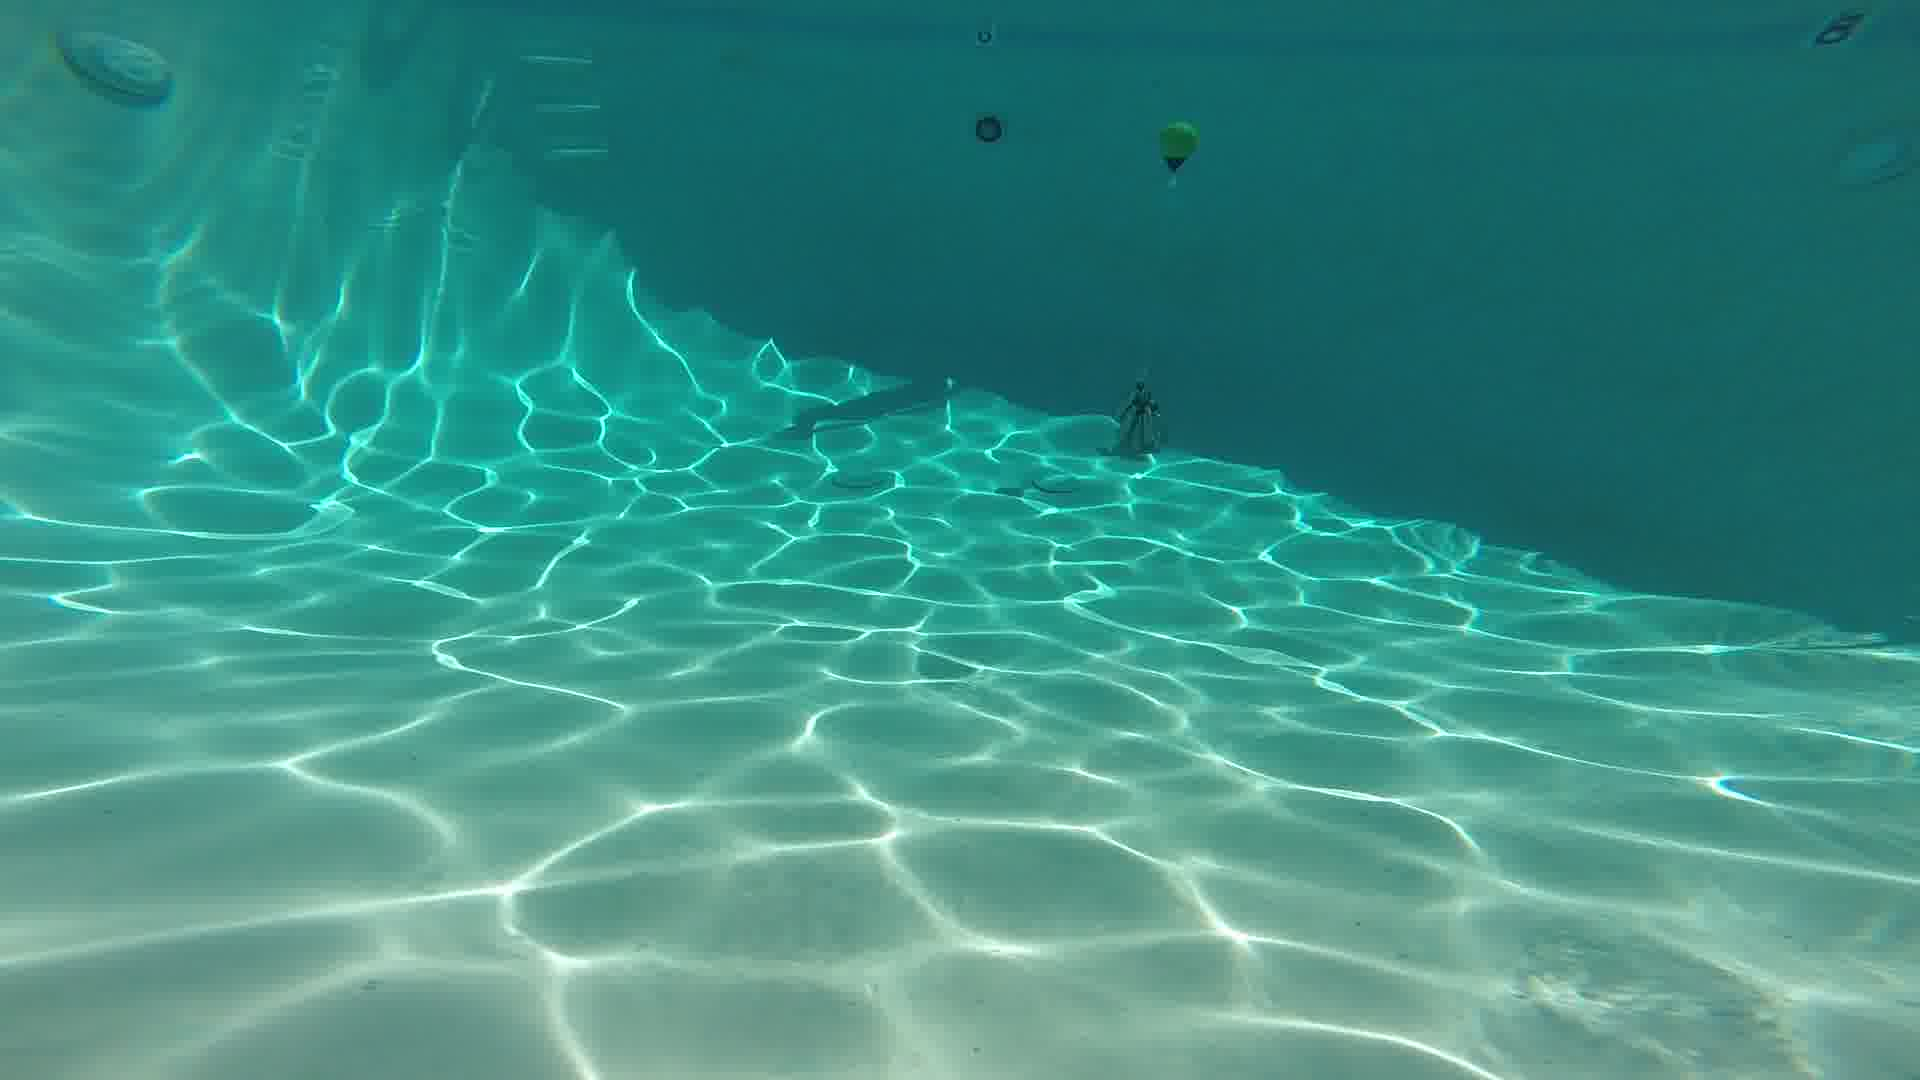yellow_buoy: (1160, 121, 1196, 170)
